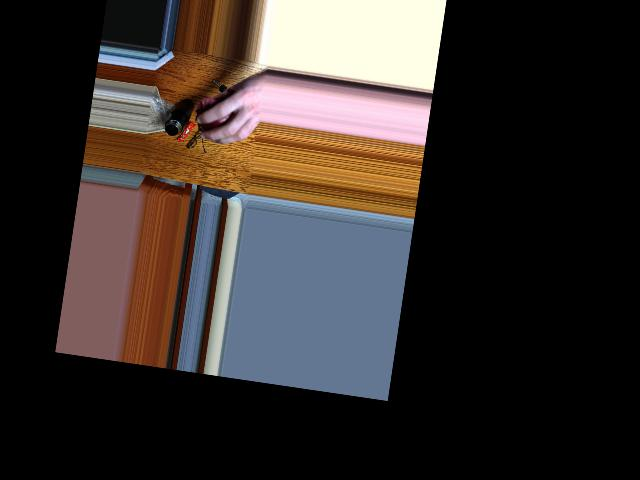onion: (201, 88, 240, 138)
